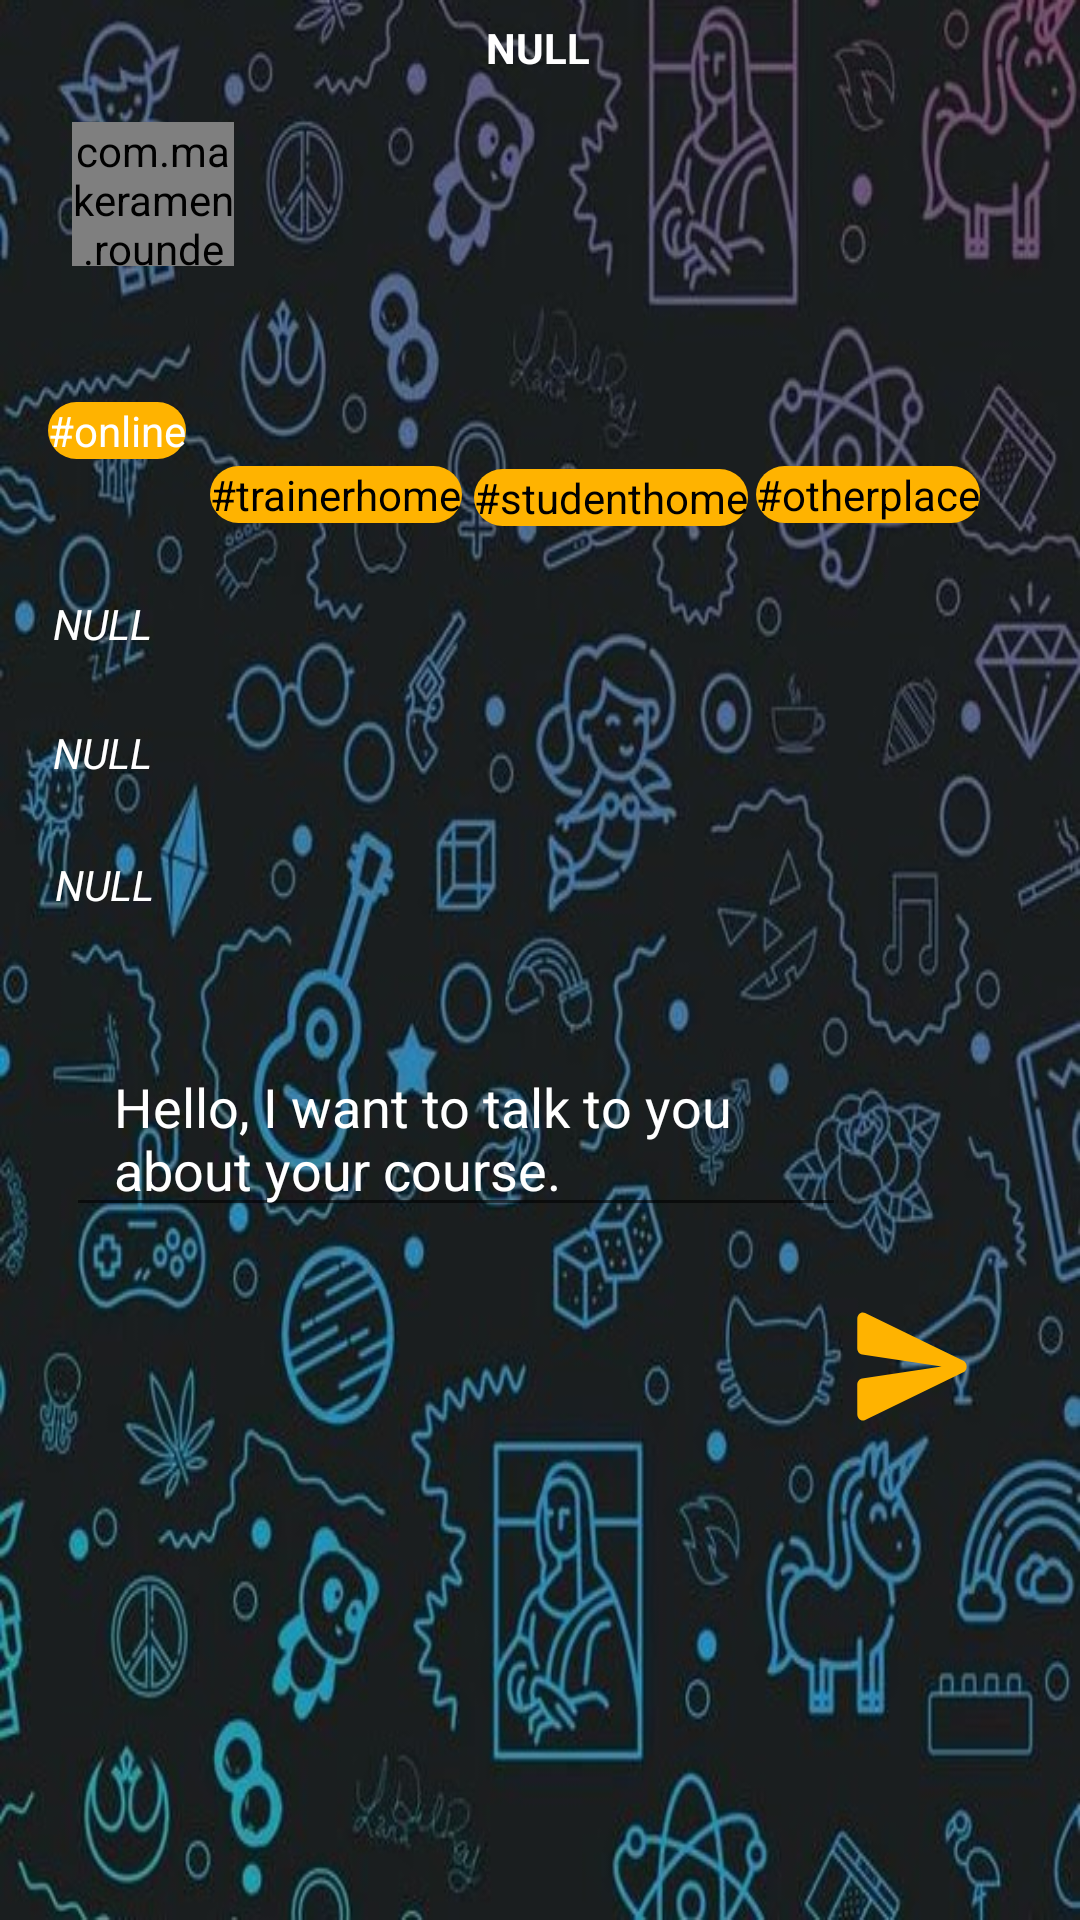

Icon click points for this 1080x1920 phone screenshot, format point (x, y):
send: point (919, 1366)
